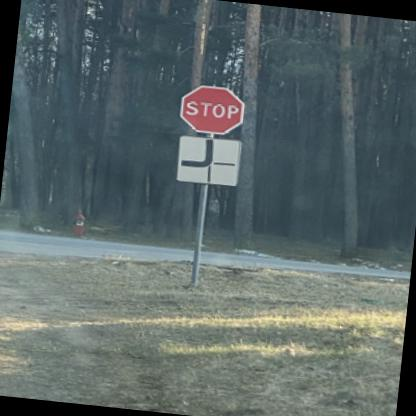stop: (178, 82, 244, 135)
